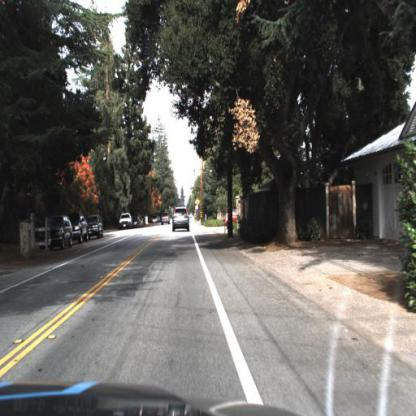car: (38, 212, 75, 255), (36, 217, 76, 251), (70, 212, 90, 246), (72, 209, 90, 246), (219, 207, 242, 235), (172, 206, 192, 236), (115, 206, 137, 233), (86, 213, 106, 242), (89, 213, 106, 241), (119, 212, 134, 232), (160, 208, 172, 229)
